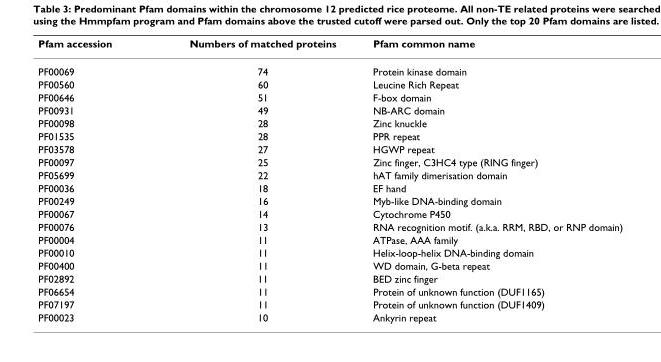table: (37, 36, 622, 322)
table column: (353, 36, 622, 322), (150, 36, 353, 322), (37, 36, 150, 322)
table column header: (37, 36, 622, 57)
table row: (37, 36, 622, 57), (37, 57, 622, 77), (37, 77, 622, 90), (37, 90, 622, 103), (37, 103, 622, 116), (37, 116, 622, 129), (37, 129, 622, 142), (37, 142, 622, 155), (37, 155, 622, 168), (37, 168, 622, 181), (37, 181, 622, 194), (37, 206, 622, 219), (37, 219, 622, 232), (37, 232, 622, 245), (37, 245, 622, 258), (37, 258, 622, 271), (37, 271, 622, 284), (37, 284, 622, 297), (37, 297, 622, 310), (37, 194, 622, 206), (37, 310, 622, 322)
